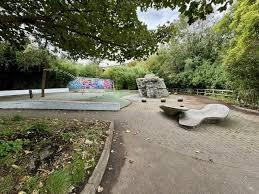overgrown grass: (0, 126, 98, 194)
